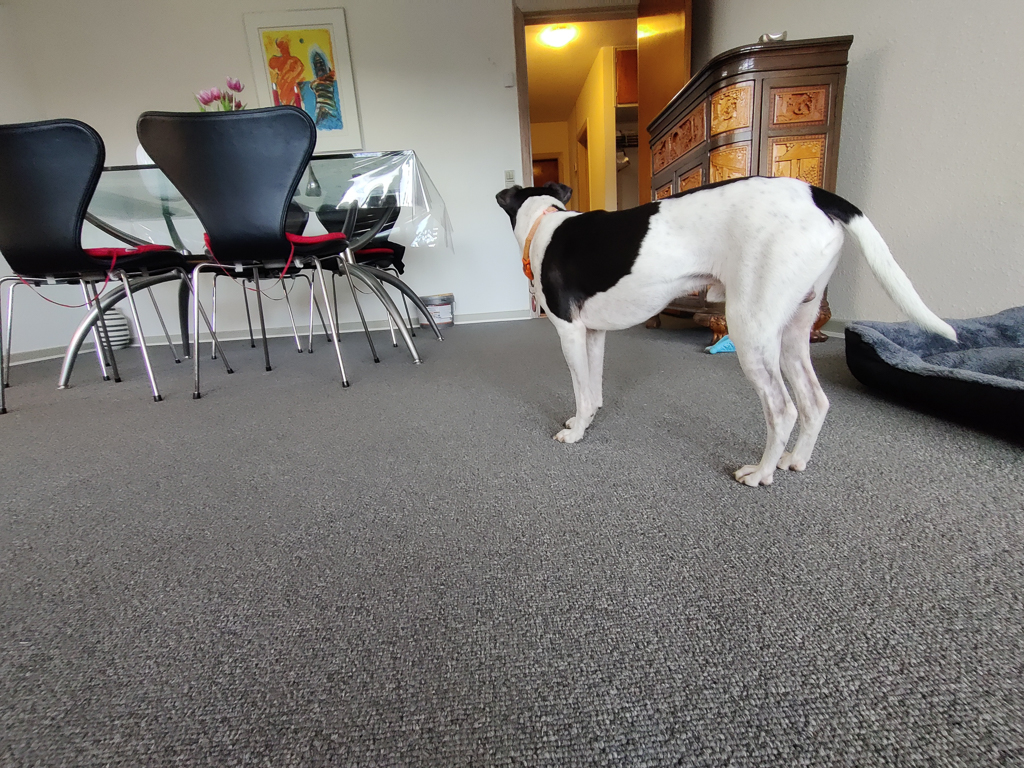Dog: (473, 166, 968, 492)
